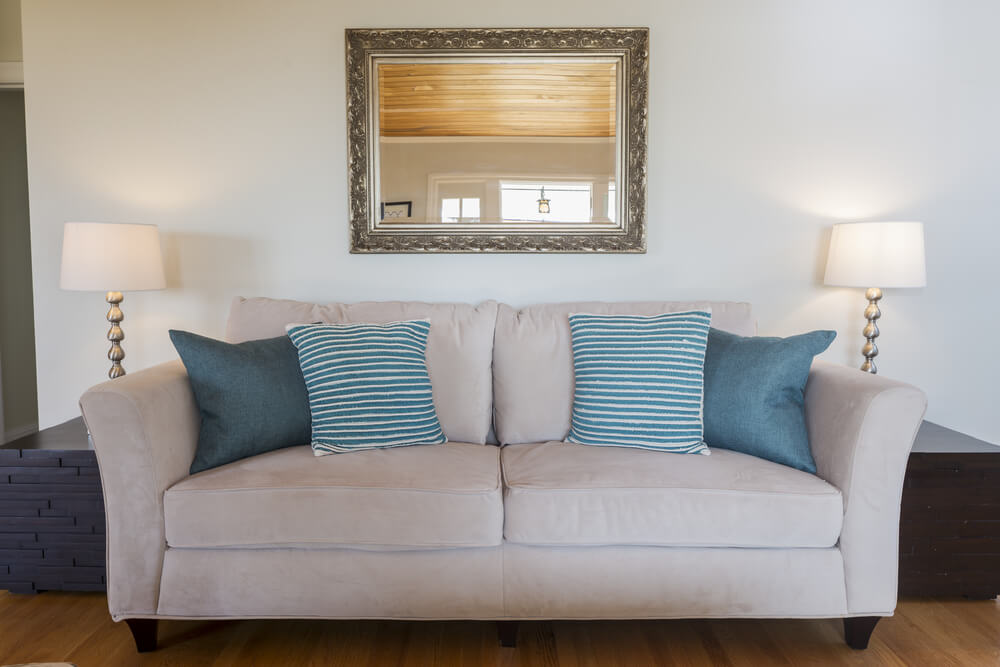chairs: (77, 283, 927, 655)
